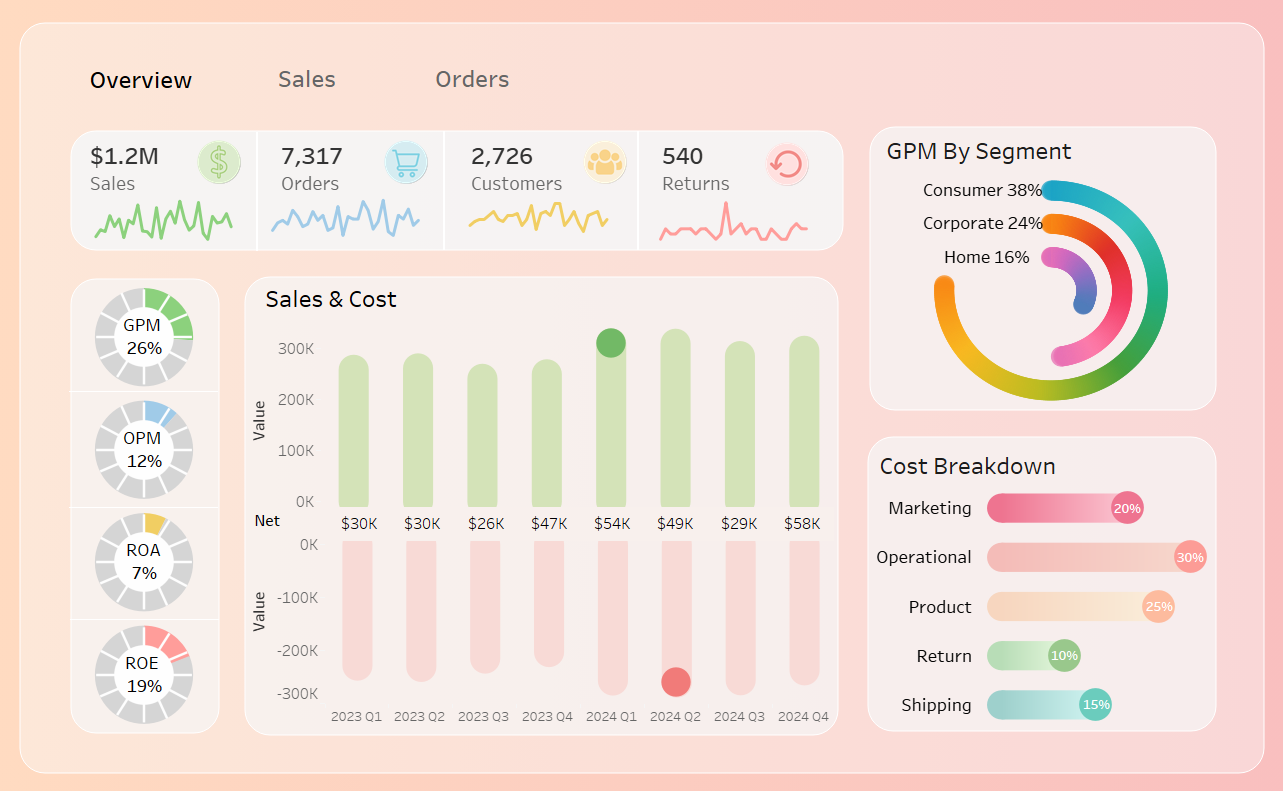

Layout of this report page (visuals, bound fields, positions):
{"tool":"tableau","page":{"name":"Overview","canvas":[1300,800],"ordinal":1},"visuals":[{"type":"image","param":"Image/1 Overview.png","box":[0,0,1300,800]},{"type":"worksheet","title":"Over Background","mark":"Automatic","box":[0,0,1300,800]},{"type":"text","box":[62,53,170,61]},{"type":"dashboard-object","box":[232,53,164,61]},{"type":"dashboard-object","box":[396,53,164,61]},{"type":"text","box":[449,136,2,119]},{"type":"text","box":[643,136,2,119]},{"type":"text","box":[889,136,221,37]},{"type":"text","box":[262,137,2,119]},{"type":"worksheet","title":"Over ALL KPI ","mark":"Automatic","box":[92,141,763,64]},{"type":"image","param":"Image/Sales Icon.png","box":[201,143,47,48]},{"type":"image","param":"Image/Orders Icon.png","box":[388,143,47,48]},{"type":"image","param":"Image/Customer Icon.png","box":[587,143,47,48]},{"type":"image","param":"Image/Returns Icon.png","box":[769,145,47,48]},{"type":"worksheet","title":"Over Radial","mark":"Line","box":[929,175,255,240]},{"type":"worksheet","title":"Over Orders Line","mark":"Automatic","rows":["Order ID"],"cols":["Order Date"],"box":[268,201,166,49]},{"type":"worksheet","title":"Over Sales Line","mark":"Automatic","rows":["Sales"],"cols":["Order Date"],"box":[92,202,154,48]},{"type":"worksheet","title":"Over Returns Line","mark":"Automatic","rows":["Returns"],"cols":["Order Date"],"box":[656,202,166,47]},{"type":"worksheet","title":"Over Customer Line","mark":"Automatic","rows":["Customer ID"],"cols":["Order Date"],"box":[466,204,156,44]},{"type":"worksheet","title":"Over Donut","mark":"Automatic","rows":["Metric"],"cols":["Calculation_226024472229781505","Calculation_226024472229810179"],"box":[77,286,146,450]},{"type":"text","box":[268,287,139,32]},{"type":"worksheet","title":"Over Sales Bar","mark":"Automatic","rows":["Sales"],"cols":["Order Date"],"box":[228,325,614,204]},{"type":"text","box":[75,396,149,1]},{"type":"text","box":[882,451,221,37]},{"type":"worksheet","title":"Over Bar Chart","mark":"Automatic","rows":["Type of Cost"],"cols":["Cost"],"box":[863,488,359,246]},{"type":"text","box":[257,511,48,29]},{"type":"text","box":[75,512,149,1]},{"type":"worksheet","title":"Over Net","mark":"Automatic","cols":["Calculation_226024472241840138"],"box":[323,512,517,34]},{"type":"worksheet","title":"Over Cost Bar","mark":"Automatic","rows":["Calculation_226024472245411856"],"cols":["Quarter-Year"],"box":[228,527,614,204]},{"type":"text","box":[76,624,149,1]}]}

Visuals, with their boxes in screenshot pixels (x1, y1, x2, y2), scaled from the page's 1300x800 canvas onto the 1283x791 screenshot:
image: crop(0, 0, 1282, 790)
"Over Background" worksheet: crop(0, 0, 1282, 790)
text: crop(61, 52, 229, 113)
dashboard-object: crop(229, 52, 391, 113)
dashboard-object: crop(391, 52, 553, 113)
text: crop(443, 134, 445, 252)
text: crop(635, 134, 637, 252)
text: crop(877, 134, 1095, 171)
text: crop(259, 135, 261, 253)
"Over ALL KPI " worksheet: crop(91, 139, 844, 203)
image: crop(198, 141, 245, 189)
image: crop(383, 141, 429, 189)
image: crop(579, 141, 626, 189)
image: crop(759, 143, 805, 191)
"Over Radial" worksheet (Line marks): crop(917, 173, 1169, 410)
"Over Orders Line" worksheet: crop(264, 199, 428, 247)
"Over Sales Line" worksheet: crop(91, 200, 243, 247)
"Over Returns Line" worksheet: crop(647, 200, 811, 246)
"Over Customer Line" worksheet: crop(460, 202, 614, 245)
"Over Donut" worksheet: crop(76, 283, 220, 728)
text: crop(264, 284, 402, 315)
"Over Sales Bar" worksheet: crop(225, 321, 831, 523)
text: crop(74, 392, 221, 393)
text: crop(870, 446, 1089, 483)
"Over Bar Chart" worksheet: crop(852, 483, 1206, 726)
text: crop(254, 505, 301, 534)
text: crop(74, 506, 221, 507)
"Over Net" worksheet: crop(319, 506, 829, 540)
"Over Cost Bar" worksheet: crop(225, 521, 831, 723)
text: crop(75, 617, 222, 618)
